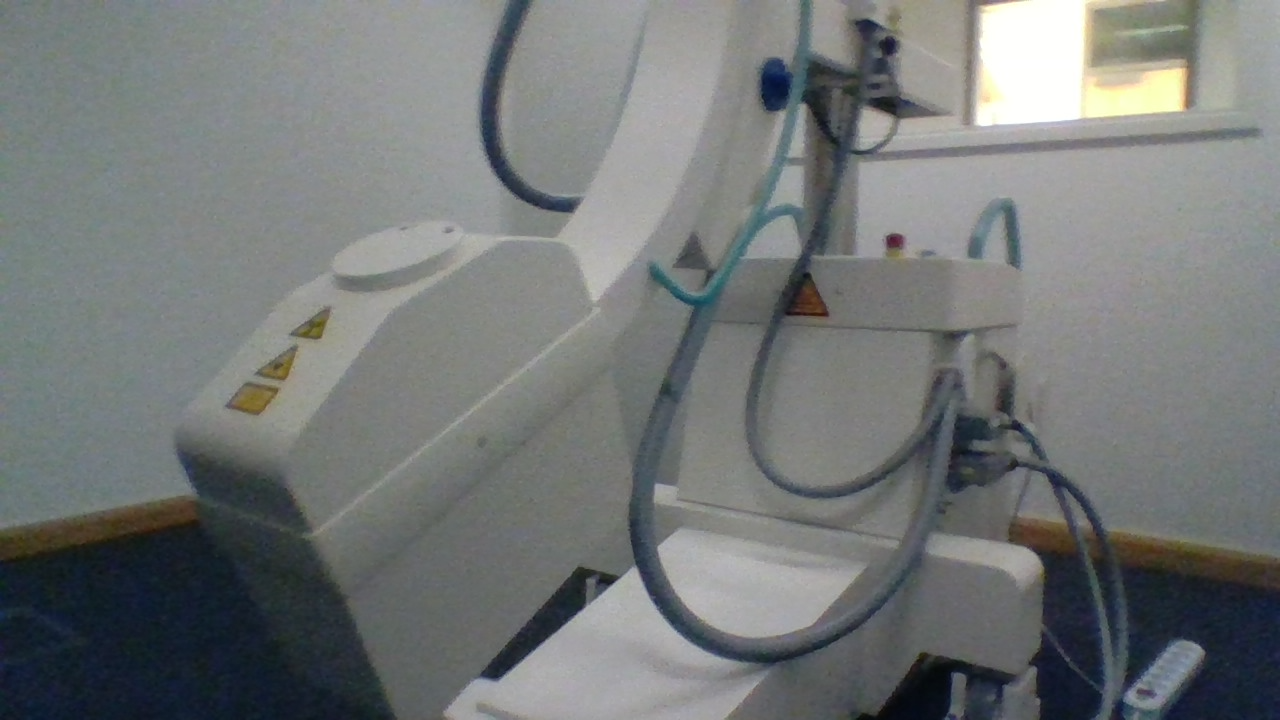carmBACK: (921, 246, 940, 260)
carmDOWN: (174, 217, 600, 537)
carmLOCK: (758, 54, 789, 113)
